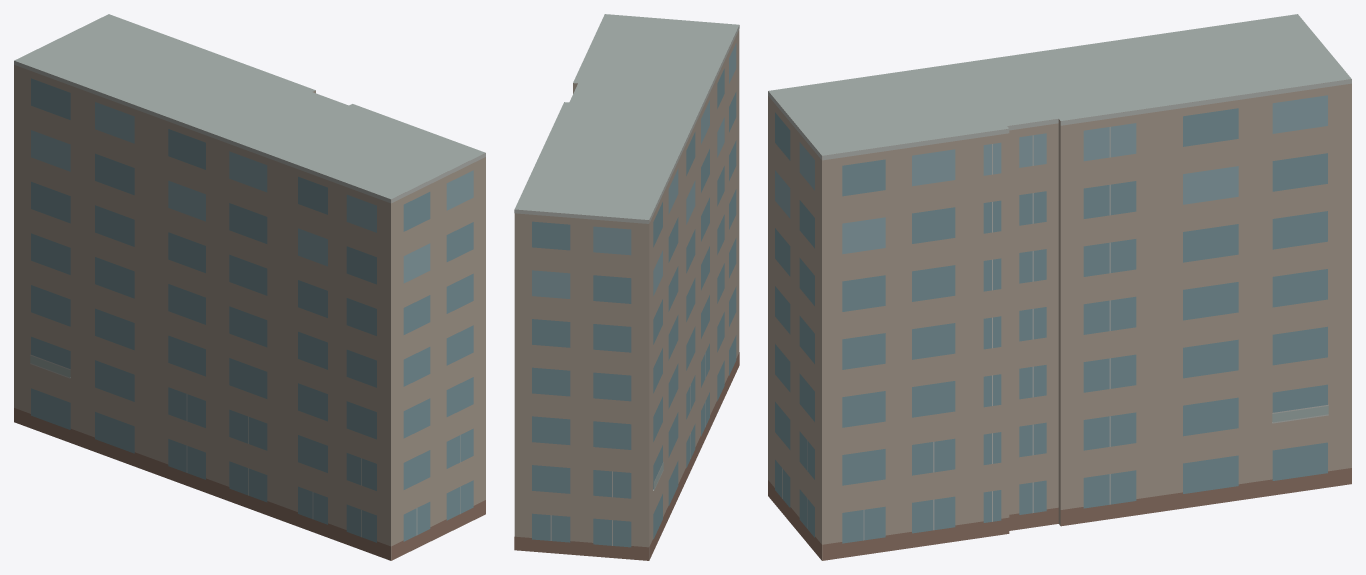
Rendered from survey-upis-32568650.glb.
3 views of the same model, side by side, from view 1: azimuth 30°, elevation 25°; view 2: azimuth 150°, elevation 25°; view 3: azimuth 270°, elevation 25° (orthographic). The views are drawn at different scales.
Parts seen in each view (by area): view 1: survey-upis-32568650.tmp; view 2: survey-upis-32568650.tmp; view 3: survey-upis-32568650.tmp.
Boxes of the visible parts, x1=… form: survey-upis-32568650.tmp: x1=14, y1=14, x2=485, y2=560; survey-upis-32568650.tmp: x1=514, y1=14, x2=739, y2=560; survey-upis-32568650.tmp: x1=768, y1=14, x2=1351, y2=560.
Size of the model in its own units: 16.08 by 21.4 by 27.96.
